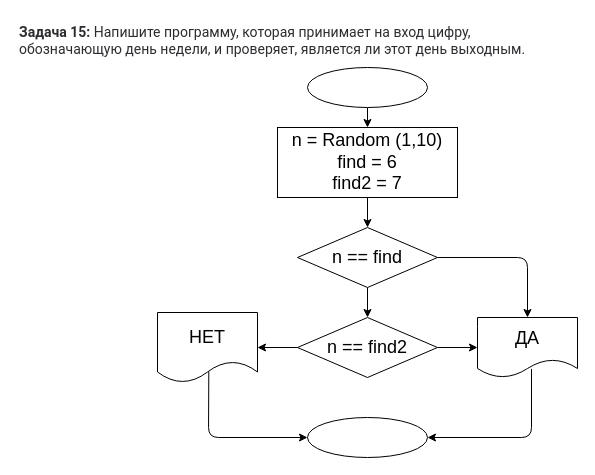
The diagram is 595 pixels wide and 475 high, and some of its shapes have lost their labels. The centre of each missing label's shape, as x and y in pixels:
"End" belongs at point (367, 437).
"Start" belongs at point (367, 87).
